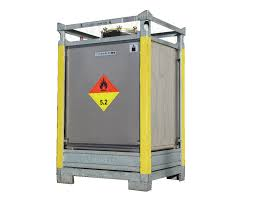OrganicPeroxide: (88, 75, 120, 112)
